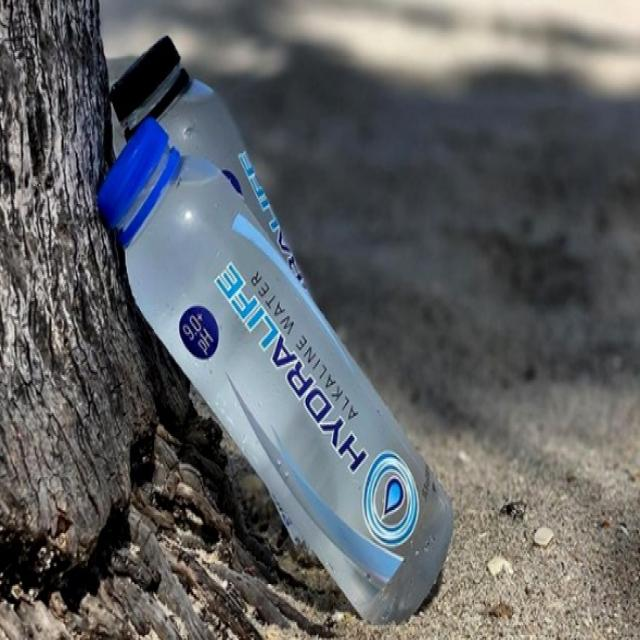plastic_bottle: (96, 33, 455, 627)
